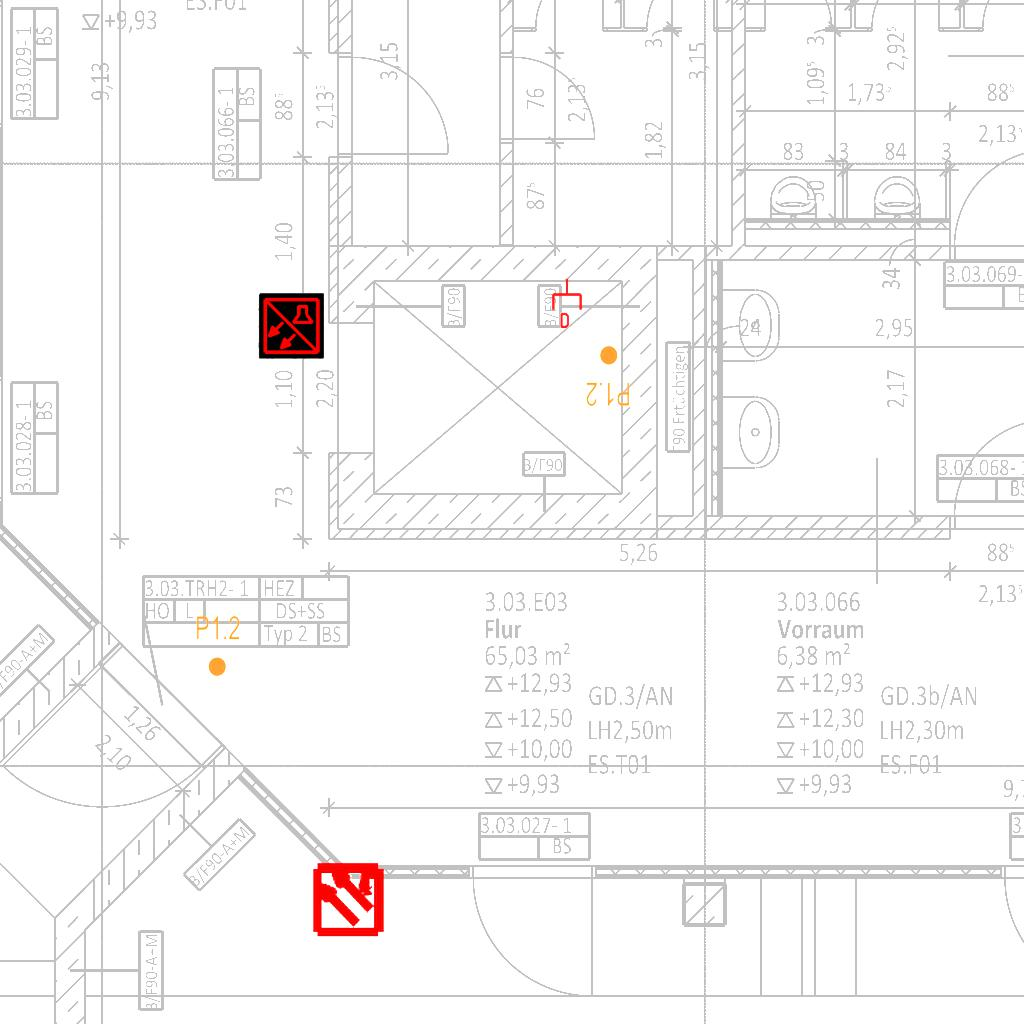Datenanschluss_einfach: (550, 278, 584, 328)
Downlight_LED_Einbauleuchten_Flur: (195, 614, 241, 678), (585, 344, 631, 408)
OKW_Multisensormelder_(Kombination_optischer_Rauch-Kahlenmonoxid_Waerme-Melder): (258, 293, 324, 359)
OT_Multisensormelder_(Kombination_RMO_WMD): (292, 841, 405, 954)
